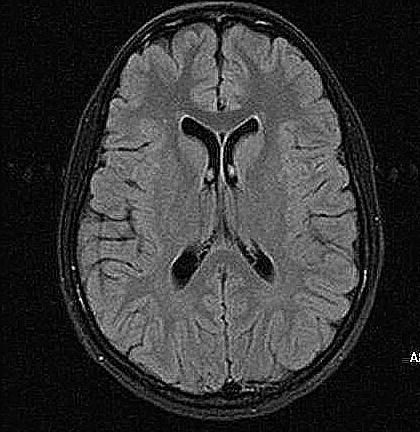Normal_Brain: (1, 1, 420, 432)
